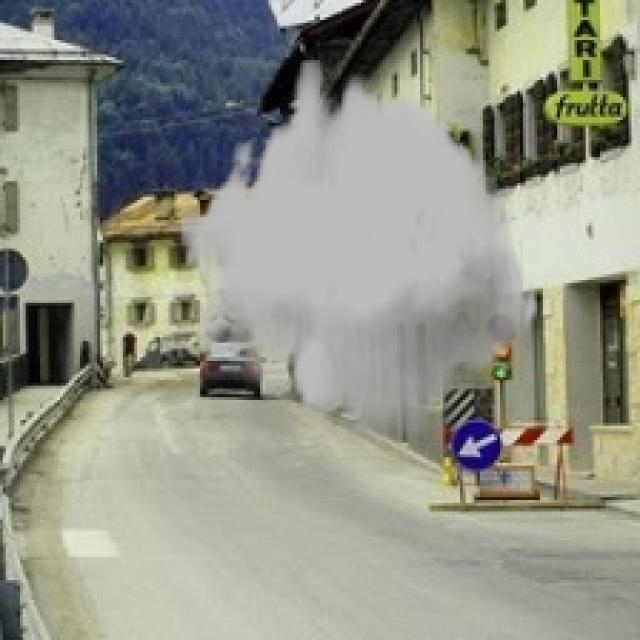smoke: (177, 60, 540, 443)
